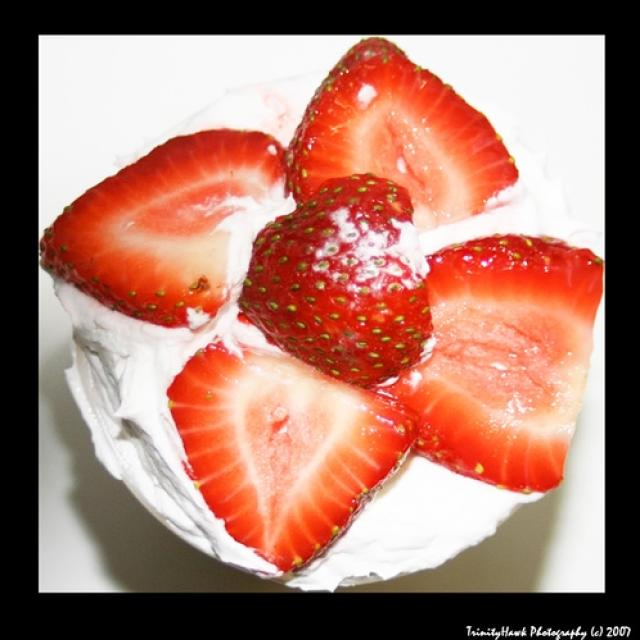蛋糕甜品: (41, 37, 612, 613)
